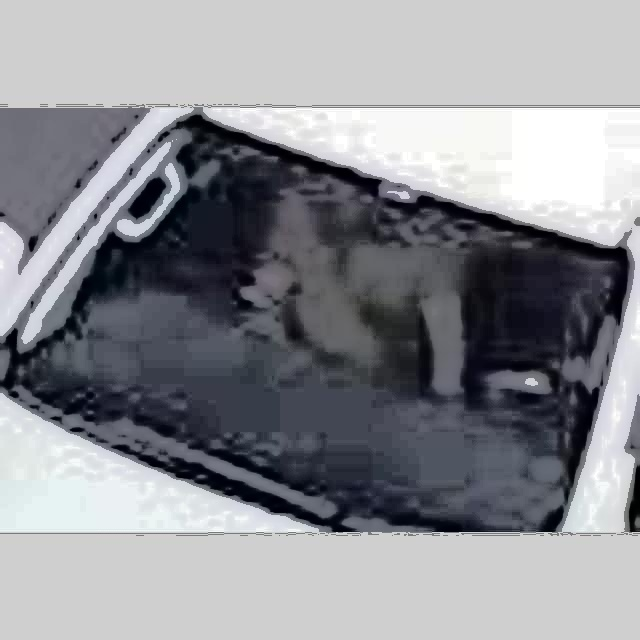pakai: (227, 172, 471, 376)
